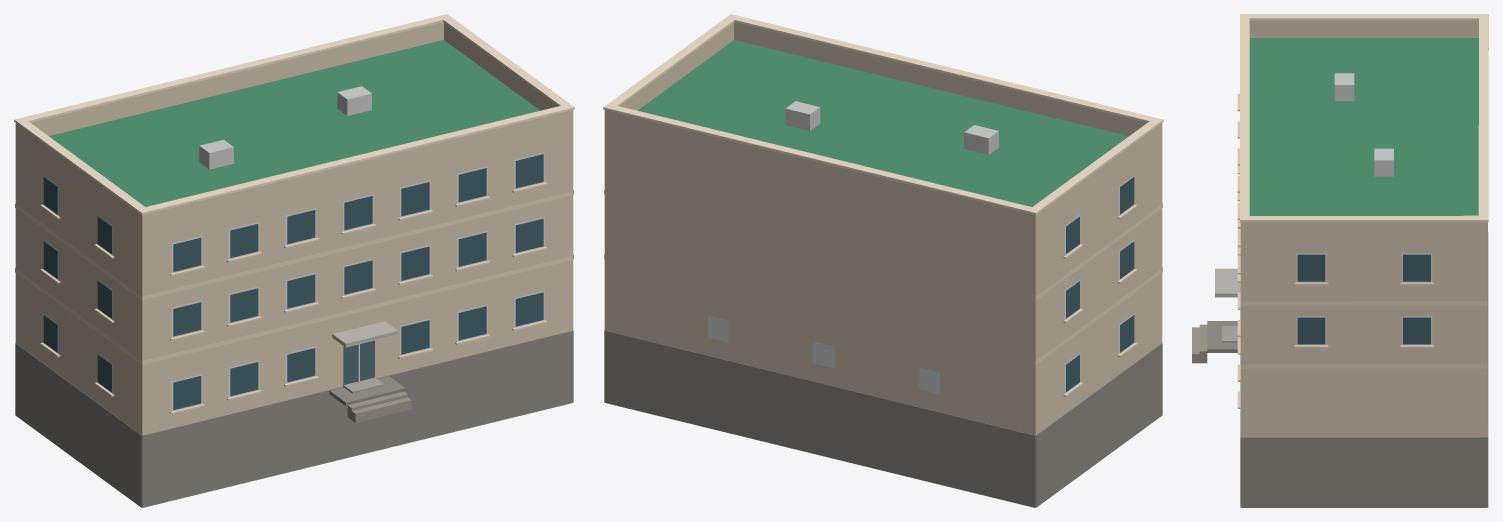
3 renders of one model, left to right at view 1: azimuth 30°, elevation 25°; view 2: azimuth 150°, elevation 25°; view 3: azimuth 270°, elevation 25°, orthographic. The views are drawn at different scales.
Parts seen in each view (by area): view 1: w451562730__plaster-wall, w451562730__foundation-wall, w451562730__roof, w451562730__glass, w451562730__coping-stone, w451562730__band-wall, w451562730__frame, w451562730__ac, w451562730__step-stone, w451562730__door-glass, w451562730__canopy-slab; view 2: w451562730__plaster-wall, w451562730__foundation-wall, w451562730__roof, w451562730__coping-stone, w451562730__glass, w451562730__frame, w451562730__band-wall, w451562730__ac; view 3: w451562730__plaster-wall, w451562730__roof, w451562730__foundation-wall, w451562730__coping-stone, w451562730__band-wall, w451562730__glass, w451562730__ac, w451562730__frame, w451562730__canopy-slab, w451562730__step-stone.
Boxes of the visible parts, left/top/right/bottom form: w451562730__plaster-wall: left=15, top=22, right=573, bottom=435; w451562730__foundation-wall: left=15, top=330, right=573, bottom=507; w451562730__roof: left=49, top=40, right=539, bottom=206; w451562730__glass: left=43, top=154, right=543, bottom=409; w451562730__coping-stone: left=14, top=14, right=574, bottom=214; w451562730__band-wall: left=15, top=182, right=573, bottom=414; w451562730__frame: left=43, top=152, right=544, bottom=411; w451562730__ac: left=199, top=86, right=371, bottom=169; w451562730__step-stone: left=347, top=391, right=411, bottom=422; w451562730__door-glass: left=343, top=340, right=374, bottom=384; w451562730__canopy-slab: left=332, top=321, right=398, bottom=347; w451562730__plaster-wall: left=604, top=22, right=1162, bottom=435; w451562730__foundation-wall: left=604, top=330, right=1162, bottom=507; w451562730__roof: left=638, top=40, right=1128, bottom=206; w451562730__coping-stone: left=603, top=14, right=1163, bottom=214; w451562730__glass: left=1066, top=177, right=1134, bottom=391; w451562730__frame: left=708, top=175, right=1134, bottom=394; w451562730__band-wall: left=604, top=190, right=1162, bottom=396; w451562730__ac: left=785, top=101, right=998, bottom=154; w451562730__plaster-wall: left=1240, top=20, right=1487, bottom=437; w451562730__roof: left=1249, top=38, right=1478, bottom=215; w451562730__foundation-wall: left=1207, top=232, right=1488, bottom=507; w451562730__coping-stone: left=1240, top=14, right=1488, bottom=222; w451562730__band-wall: left=1237, top=94, right=1487, bottom=408; w451562730__glass: left=1297, top=254, right=1430, bottom=344; w451562730__ac: left=1334, top=73, right=1393, bottom=176; w451562730__frame: left=1296, top=253, right=1432, bottom=345; w451562730__canopy-slab: left=1215, top=268, right=1240, bottom=297; w451562730__step-stone: left=1192, top=324, right=1207, bottom=363.
Bounding box in the file's own units: 24.82 × 16.04 × 14.97.
